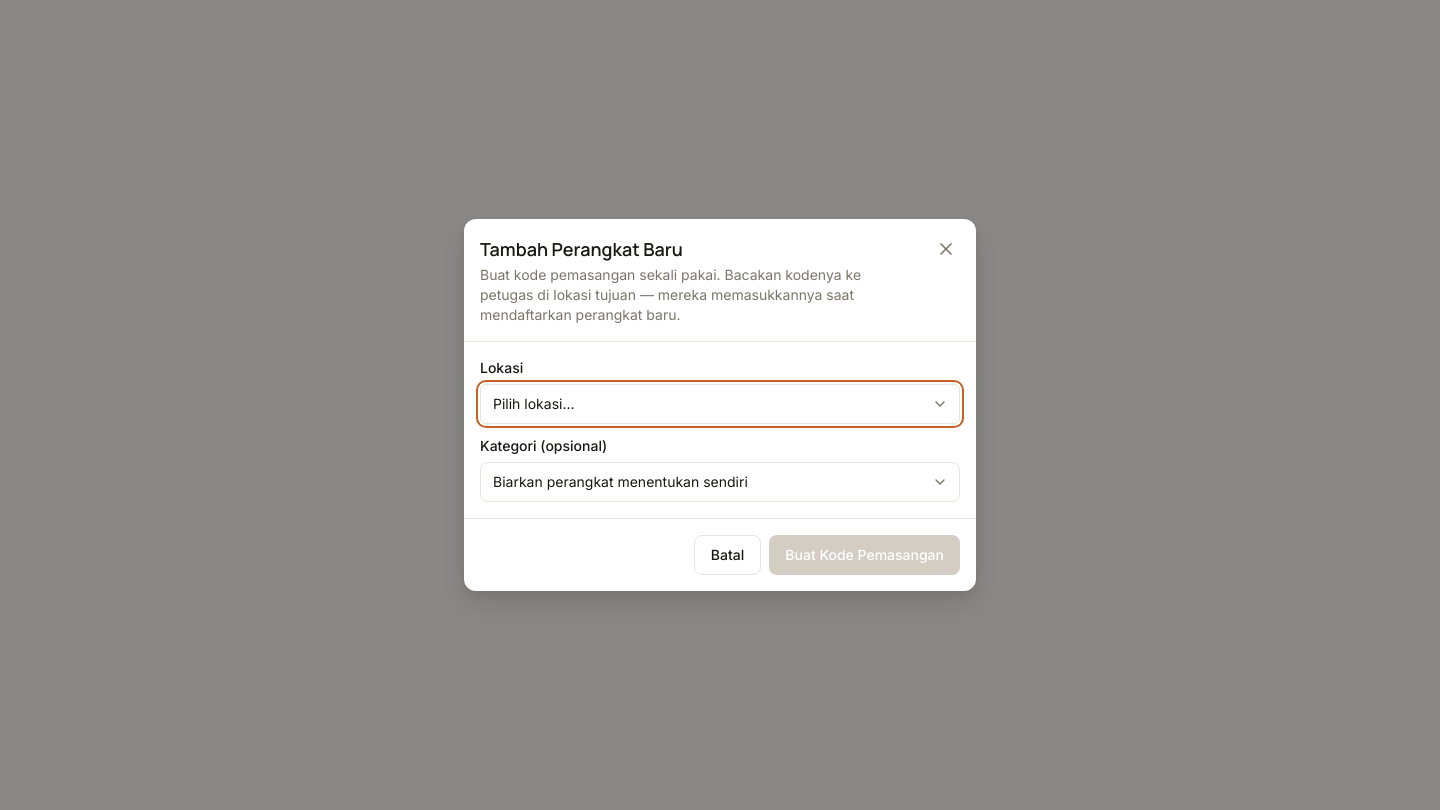
Test case: AddDevicePairingModal › keeps the submit button disabled until a location is chosen
This screenshot has width=1440, height=810.
Expected: the button "Buat Kode Pemasangan" is disabled, [769,535,960,575]
Select "Outlet Balikpapan Baru" in the dropdown labelled "Lokasi" at (720, 404), box [480,384,960,424]
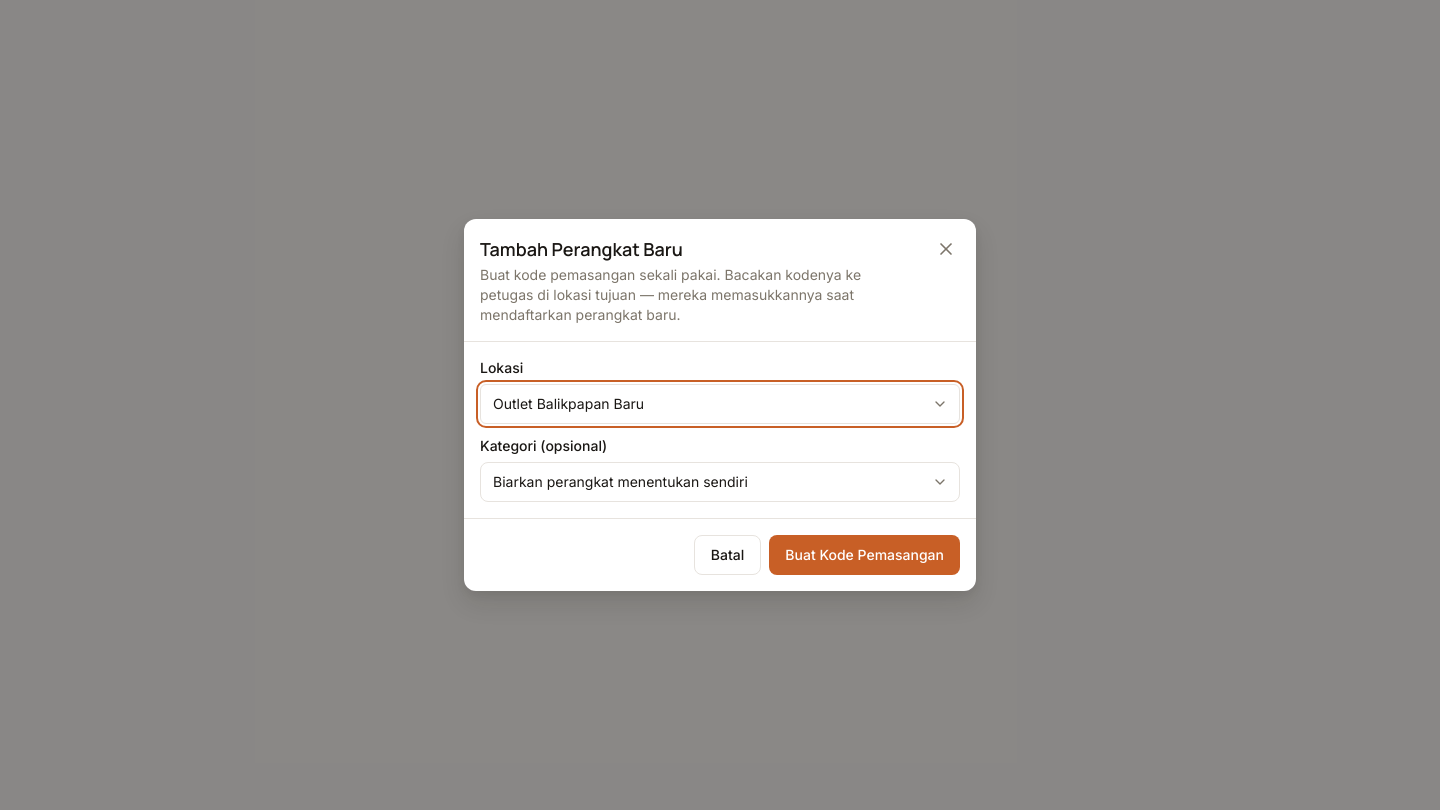
Result: the button "Buat Kode Pemasangan" is enabled at [769,535,960,575]
